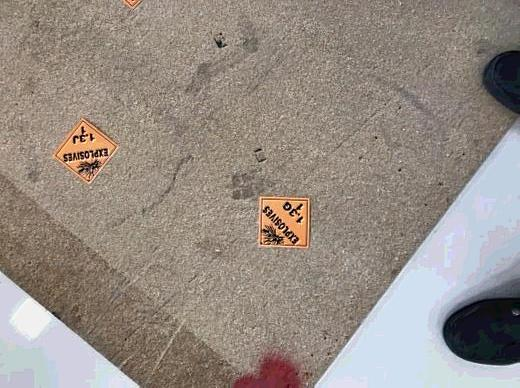explosive: (55, 117, 118, 185), (258, 197, 312, 248)
